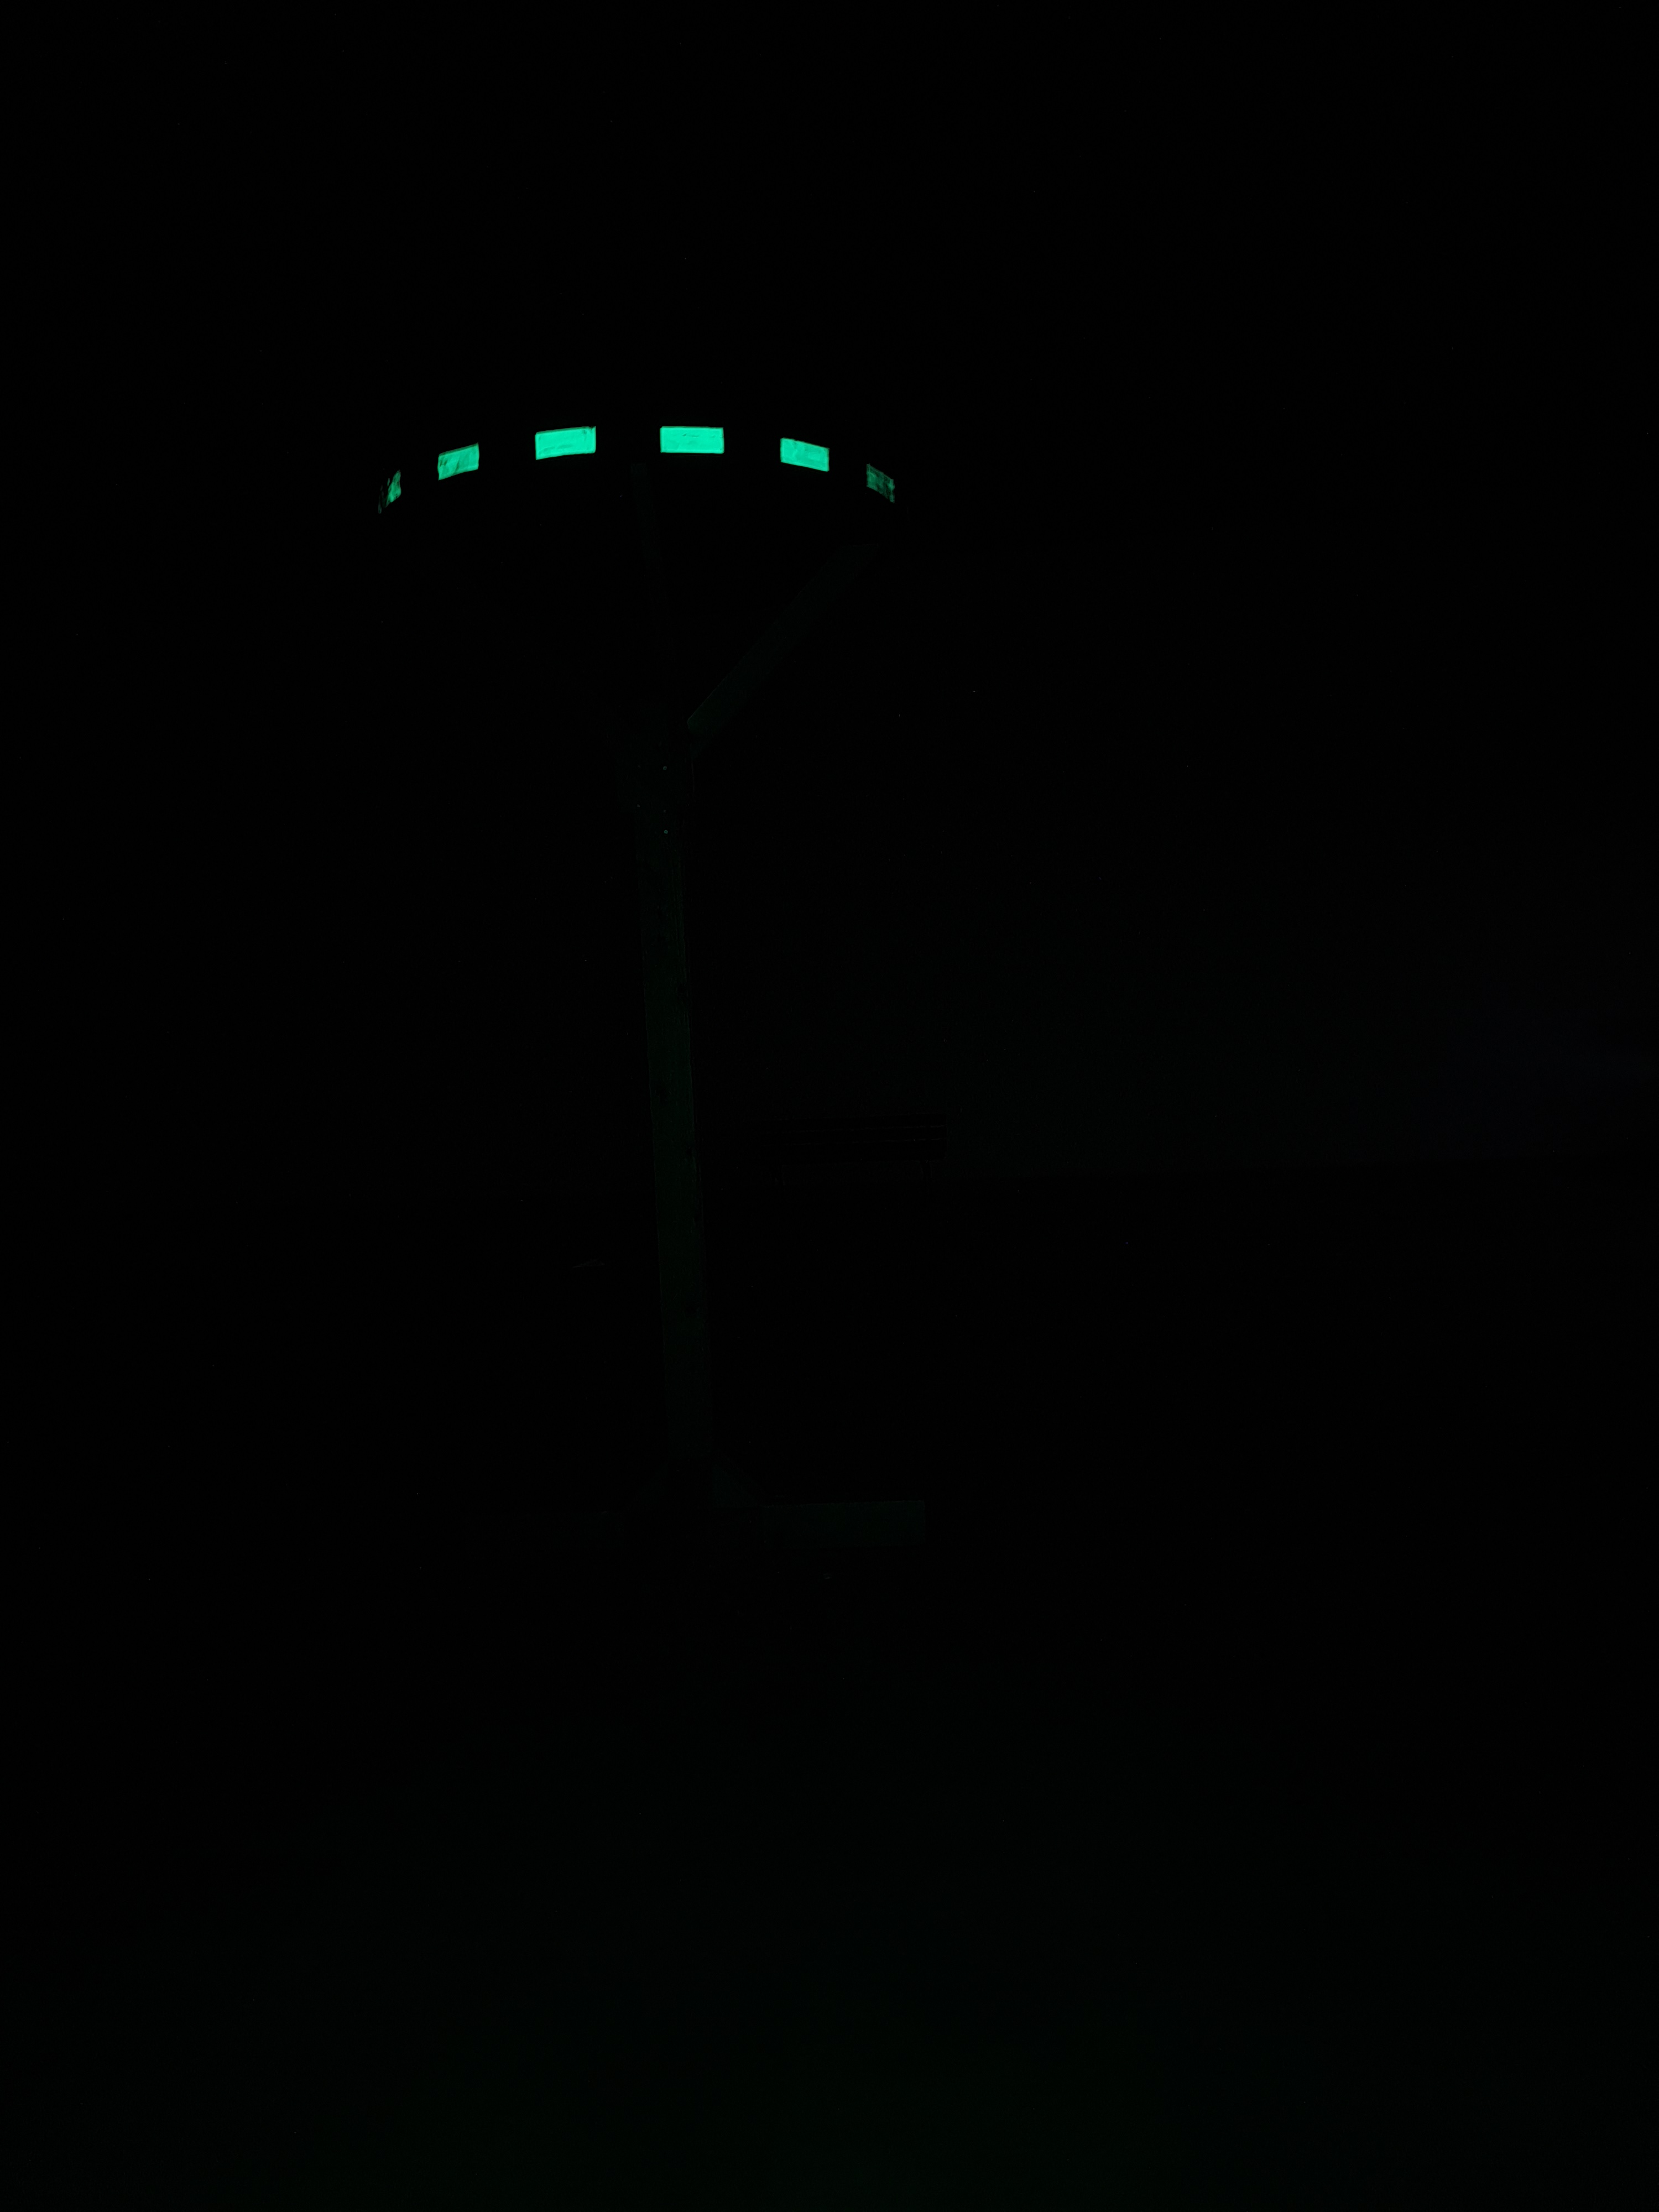hoop: (366, 416, 906, 523)
